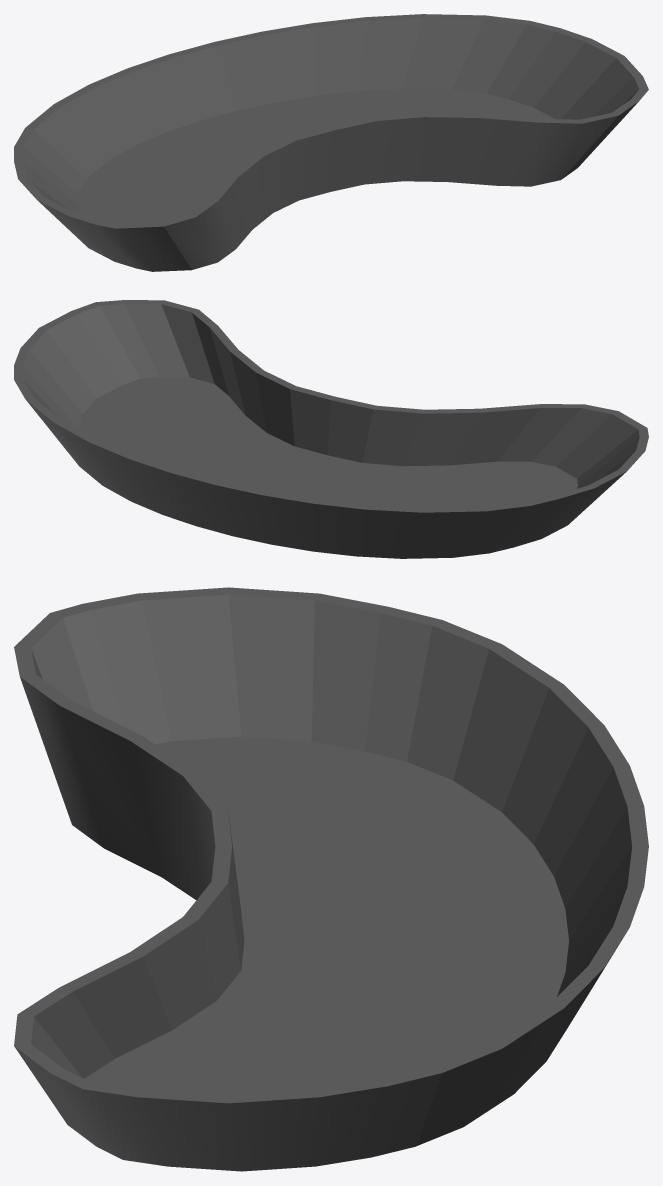
The model's file is kidney tray.FBX.
The picture shows the model from 3 angles, top to bottom: view 1: azimuth 30°, elevation 25°; view 2: azimuth 150°, elevation 25°; view 3: azimuth 270°, elevation 25°; orthographic projection. The views are drawn at different scales.
Parts seen in each view (by area): view 1: kidney tray; view 2: kidney tray; view 3: kidney tray.
Boxes of the visible parts, x1,y1,x2,y2 form: kidney tray: (14,14,648,271); kidney tray: (14,300,648,558); kidney tray: (14,587,648,1171).
Size of the model in its own units: 16.67 by 8.67 by 1.76.
